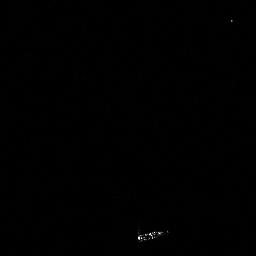ship: (135, 229, 172, 246)
